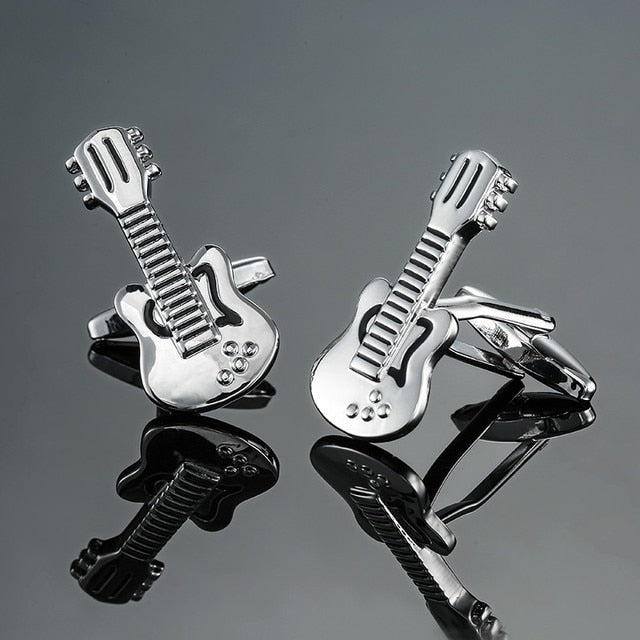Violin: (60, 105, 317, 438)
